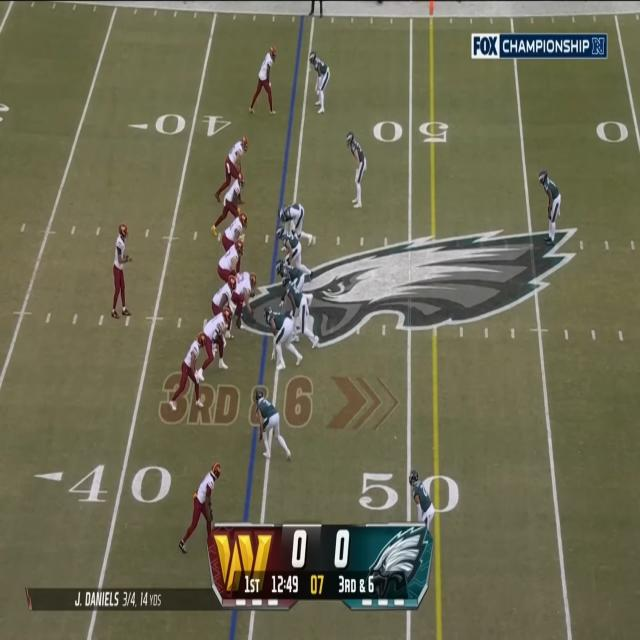Ball: (248, 310, 257, 324)
